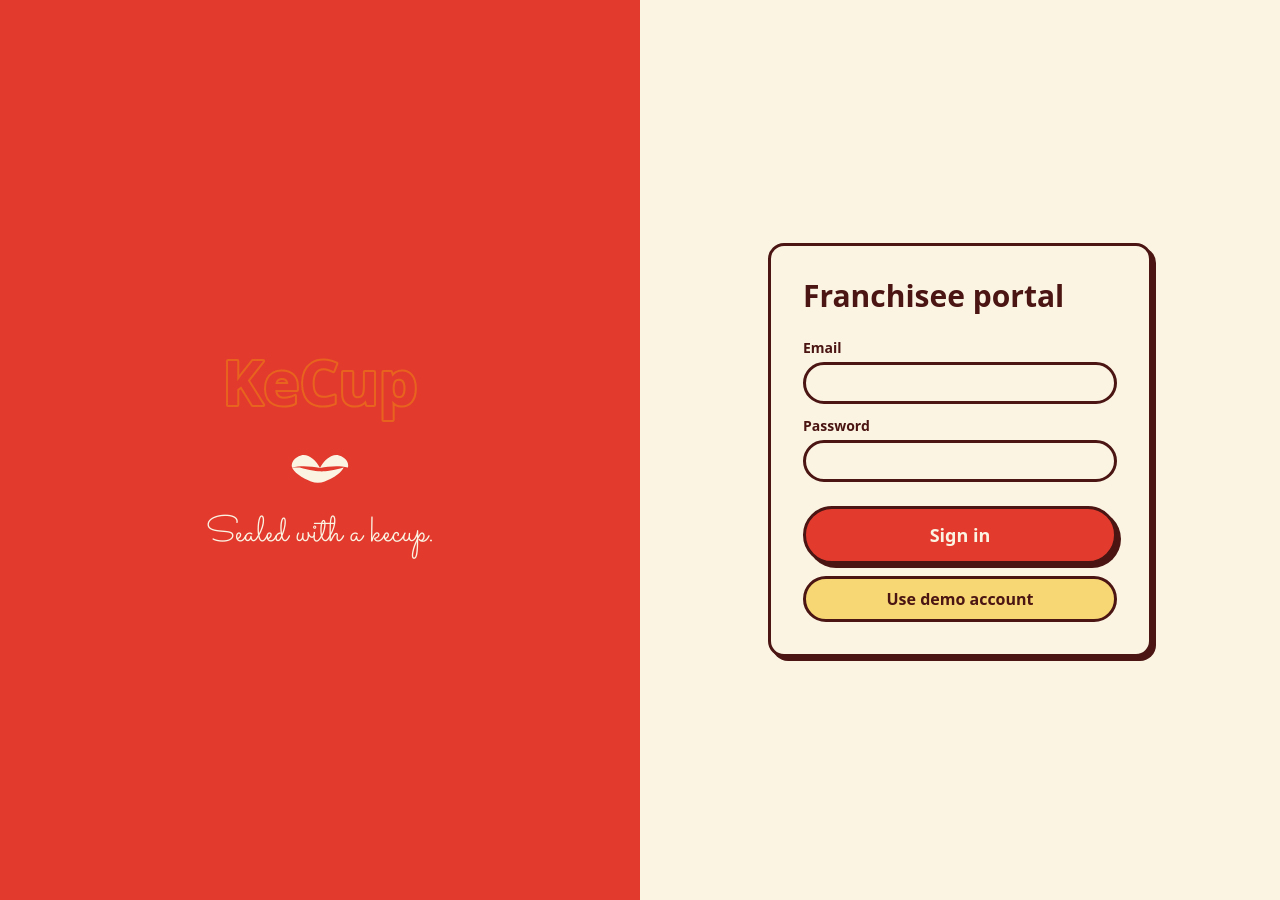
Scenario: portal login › rejects empty credentials
Click the button "Use demo account": click(960, 599) [803, 576, 1117, 622]
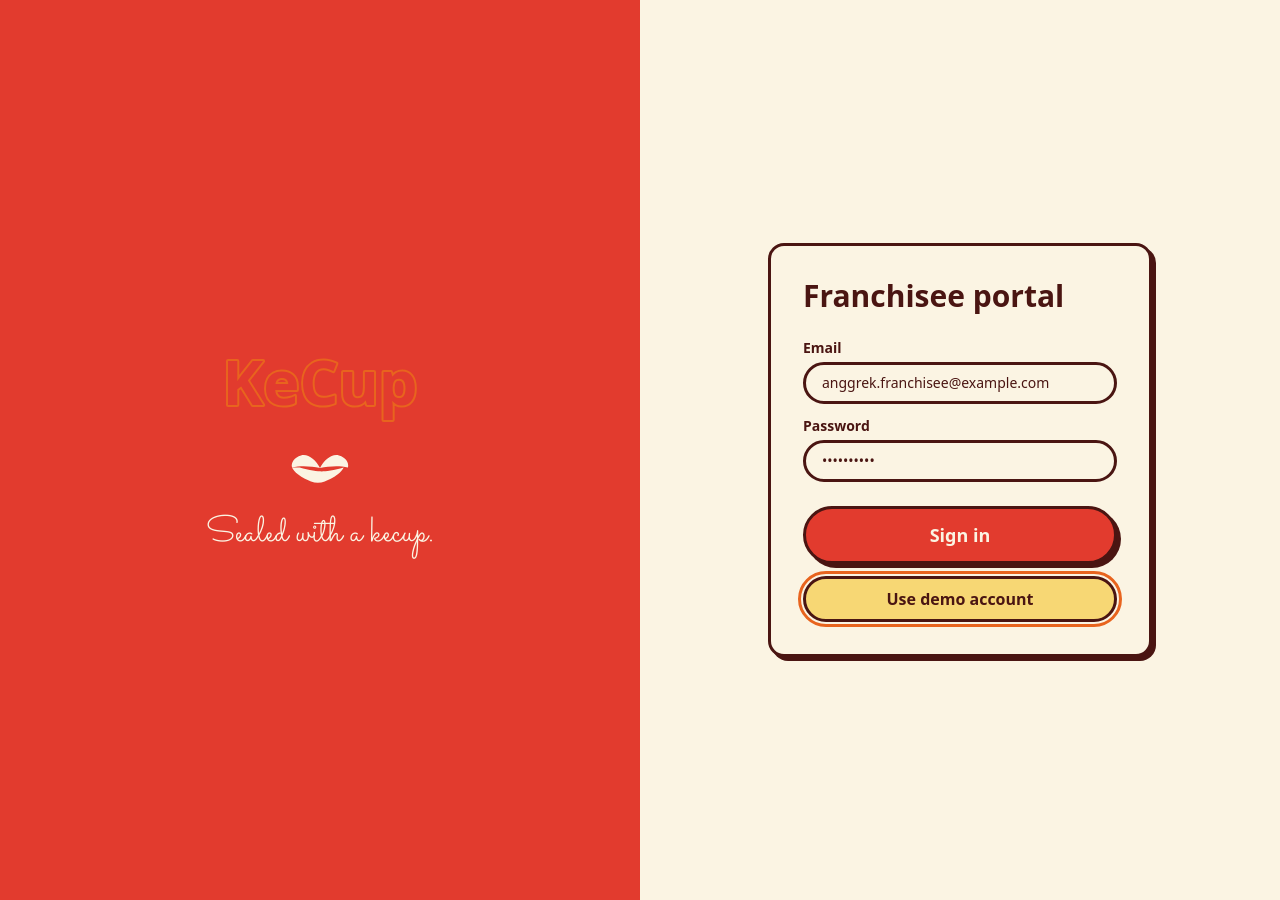
Expected: the field labelled "Email" holds "anggrek.franchisee@example.com", [803, 362, 1117, 404]
